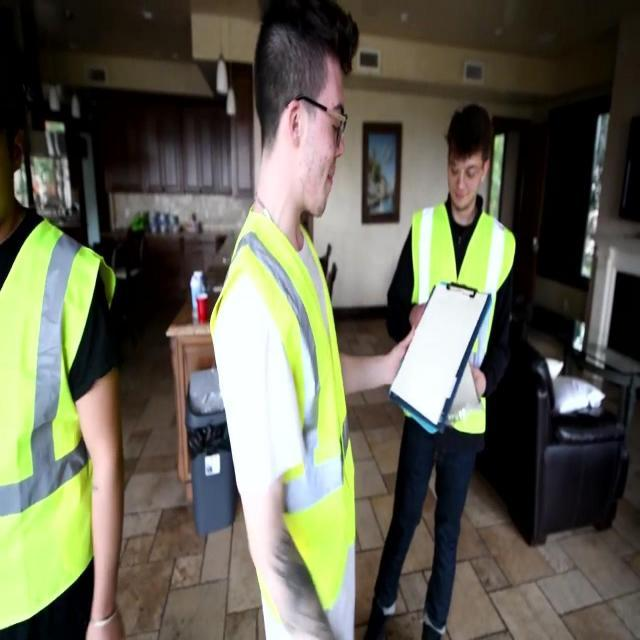person_with_vest: (211, 199, 380, 600), (0, 210, 151, 640), (405, 198, 519, 437)
